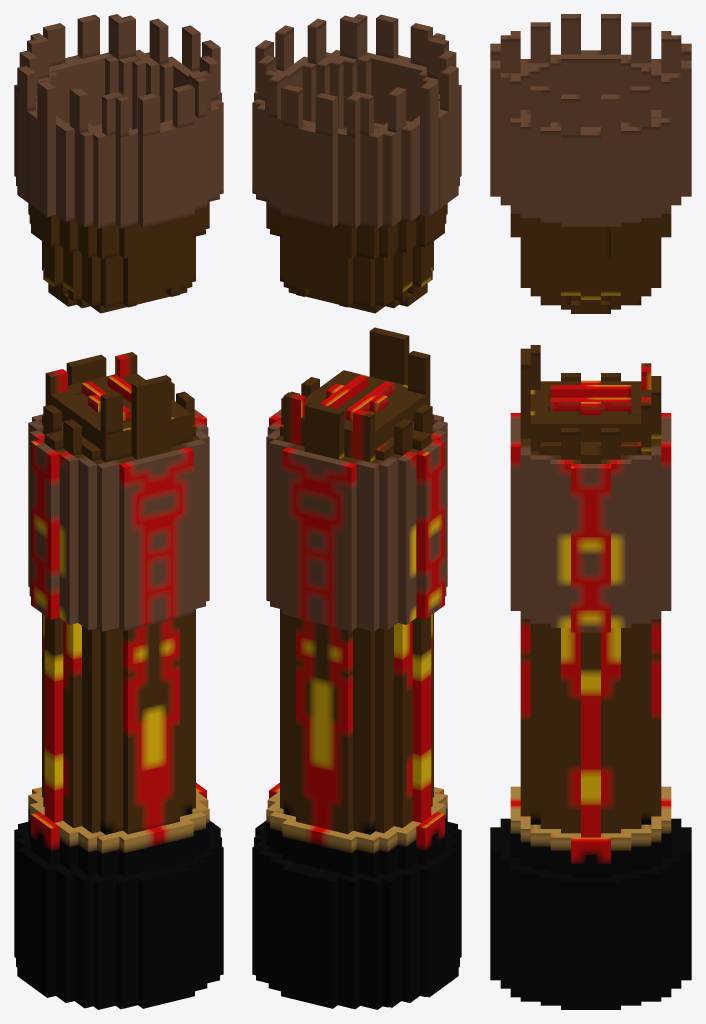
The model's file is tower refence 2.obj.
The picture shows the model from 3 angles, left to right: view 1: azimuth 30°, elevation 25°; view 2: azimuth 150°, elevation 25°; view 3: azimuth 270°, elevation 25°; orthographic projection.
Parts seen in each view (by area): view 1: Model; view 2: Model; view 3: Model.
Boxes of the visible parts, <box> form: Model: <box>14,14,223,1009</box>; Model: <box>252,14,461,1009</box>; Model: <box>490,14,691,1009</box>.
Bounding box in the file's own units: 6.4 × 32 × 6.4.
Materials: 1 (1 with a texture image).
